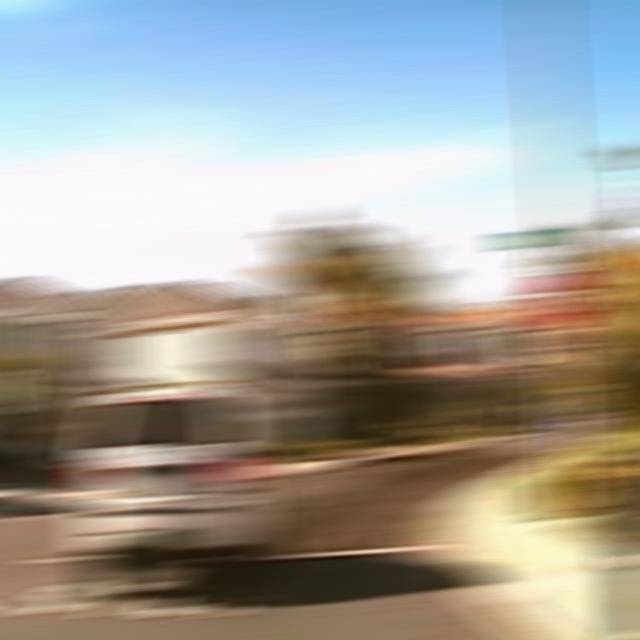stop_sign: (527, 270, 596, 333)
